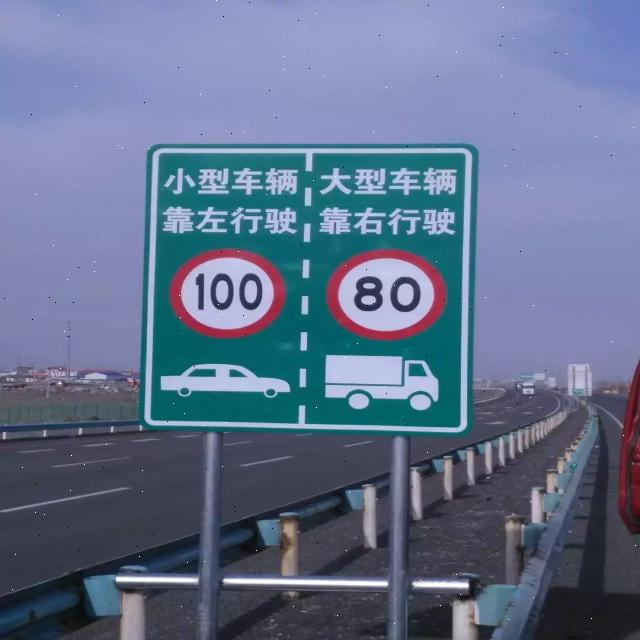speed limit 100: (168, 250, 281, 338)
speed limit 80: (328, 249, 449, 341)
